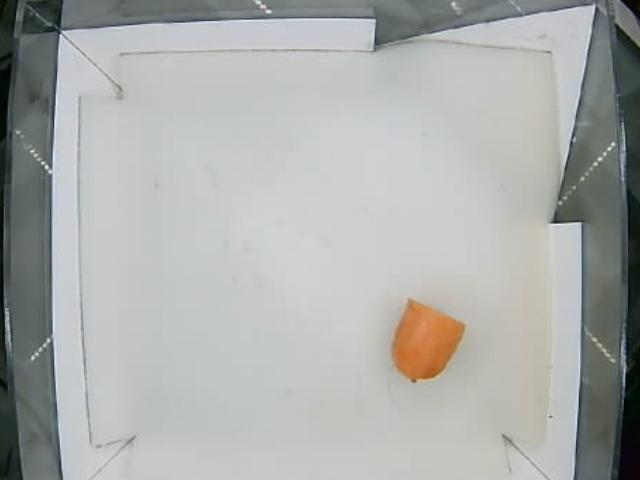Carrot: (391, 298, 467, 383)
